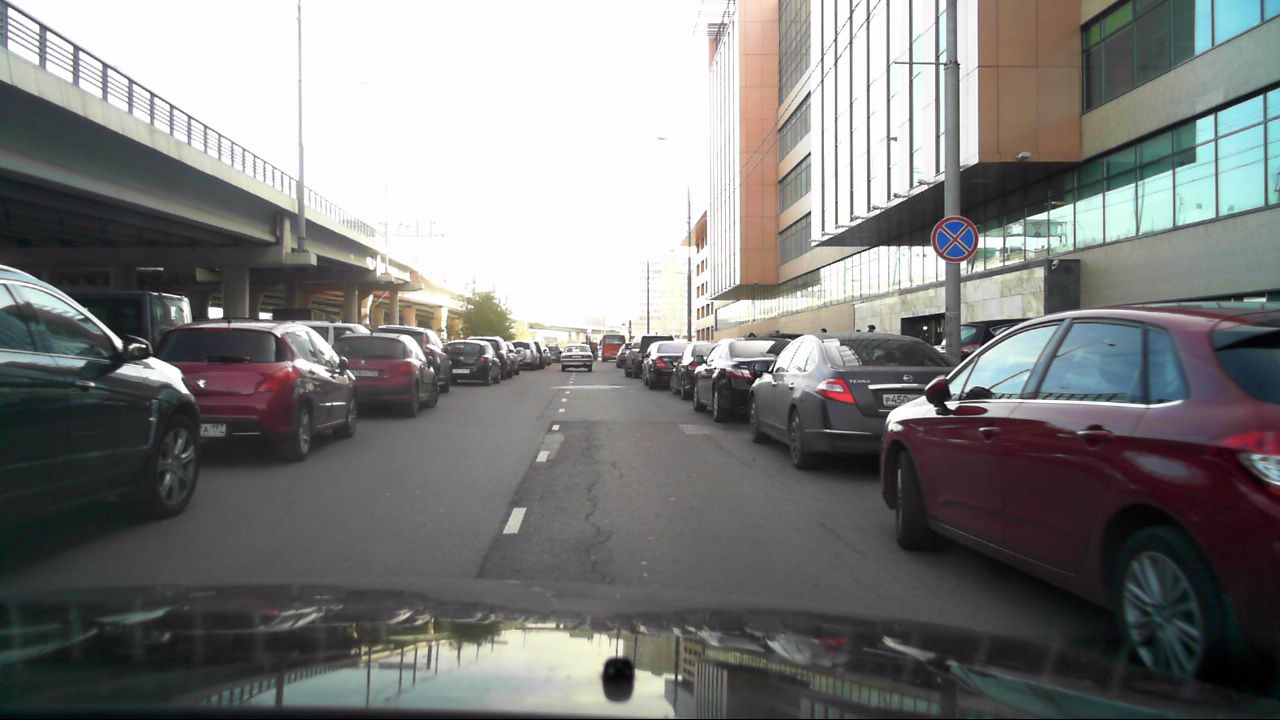No Parking: (929, 214, 980, 263)
